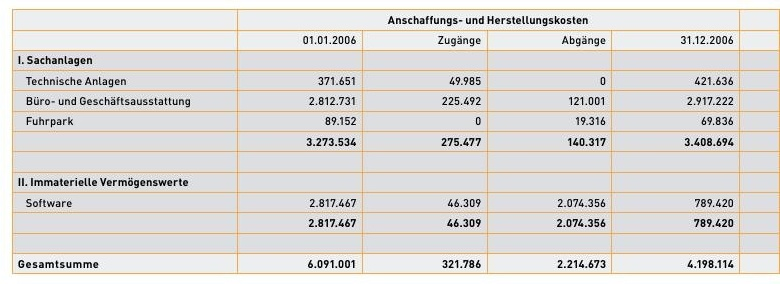table: (0, 0, 780, 284)
